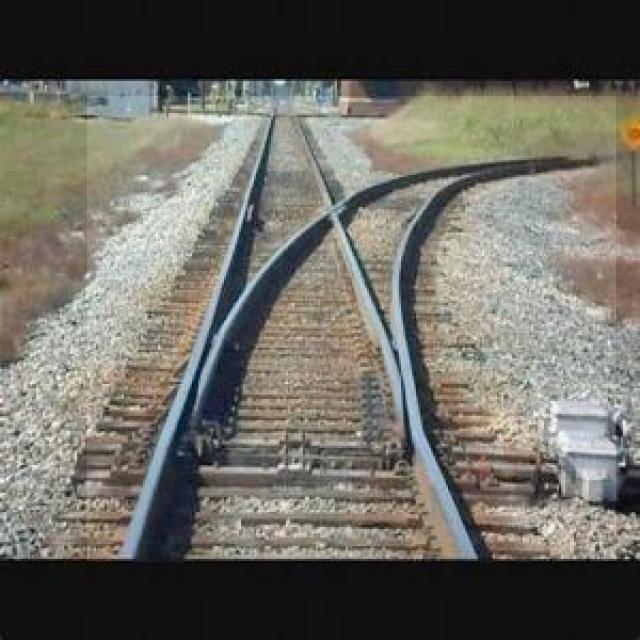rail: (88, 97, 617, 563)
